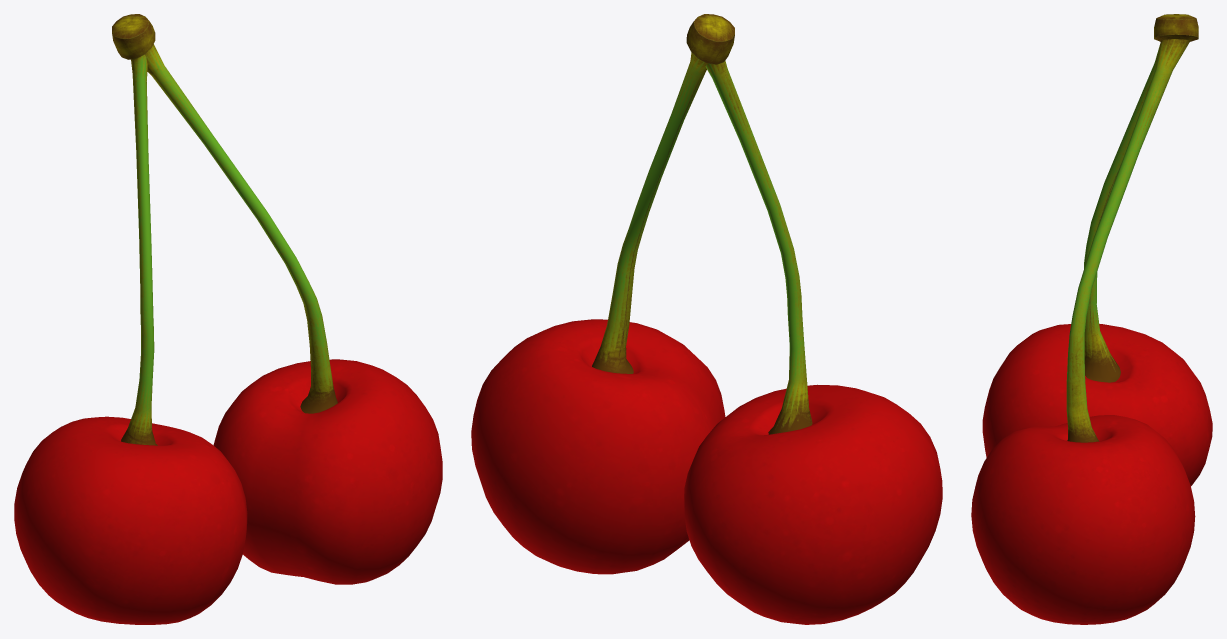
Rendered from cherries.glb.
3 renders of one model, left to right at view 1: azimuth 30°, elevation 25°; view 2: azimuth 150°, elevation 25°; view 3: azimuth 270°, elevation 25°, orthographic. The views are drawn at different scales.
Parts seen in each view (by area): view 1: pSphere2, pSphere1, pCylinder1, pCylinder2; view 2: pSphere2, pSphere1, pCylinder1, pCylinder2; view 3: pSphere1, pSphere2, pCylinder1, pCylinder2.
Part boxes in pixels (bbox=[...]): pSphere2: bbox=[14, 416, 247, 624]; pSphere1: bbox=[213, 359, 442, 584]; pCylinder1: bbox=[112, 14, 337, 413]; pCylinder2: bbox=[121, 54, 157, 445]; pSphere2: bbox=[683, 384, 942, 624]; pSphere1: bbox=[471, 319, 725, 574]; pCylinder1: bbox=[592, 14, 734, 373]; pCylinder2: bbox=[705, 60, 812, 434]; pSphere1: bbox=[971, 415, 1195, 624]; pSphere2: bbox=[982, 324, 1212, 485]; pCylinder1: bbox=[1066, 14, 1198, 442]; pCylinder2: bbox=[1084, 44, 1160, 382].
Bounding box in the file's own units: 5.71 × 7.59 × 3.15.
Materials: 2 (2 with a texture image).
